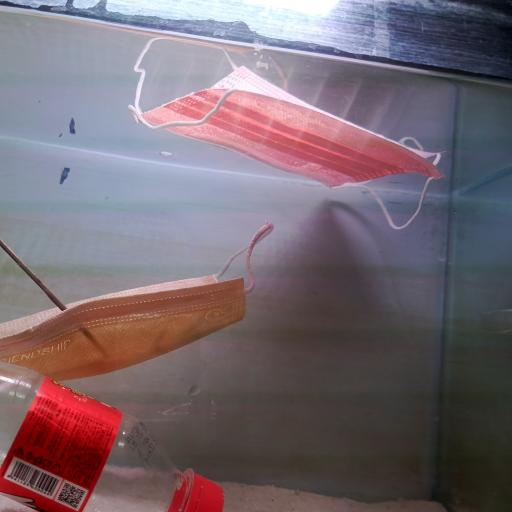bottle_cap: (175, 461, 227, 512)
mask: (129, 68, 457, 230), (0, 266, 274, 376)
plastic_bottle: (0, 379, 229, 512)
